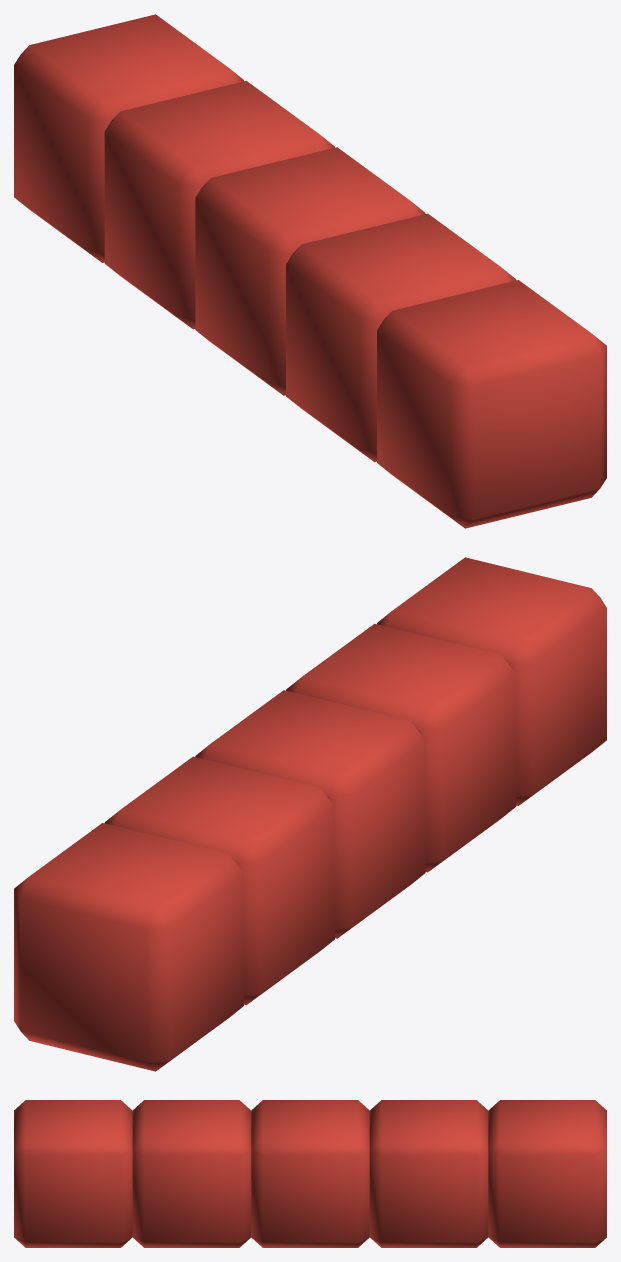
Rendered from cube-obstacle-easy.fbx.
3 views of the same model, one above another, from view 1: azimuth 30°, elevation 25°; view 2: azimuth 150°, elevation 25°; view 3: azimuth 270°, elevation 25° (orthographic). The views are drawn at different scales.
Visible parts, largest first — view 1: Cube; view 2: Cube; view 3: Cube.
Boxes of the visible parts, x1=… form: Cube: x1=14, y1=14, x2=606, y2=528; Cube: x1=14, y1=557, x2=606, y2=1071; Cube: x1=14, y1=1100, x2=606, y2=1247.
Bounding box in the file's own units: 200 × 200 × 1000.
